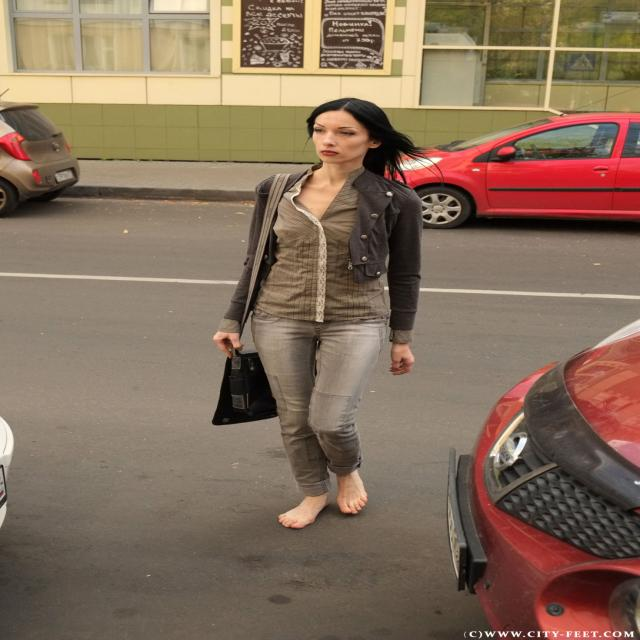No Safety Boots: (278, 493, 330, 529), (336, 467, 368, 514)
